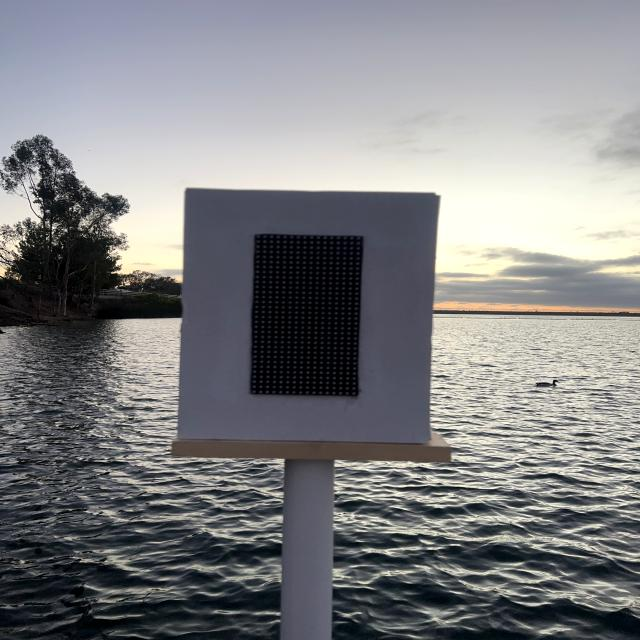led: (210, 206, 395, 430)
